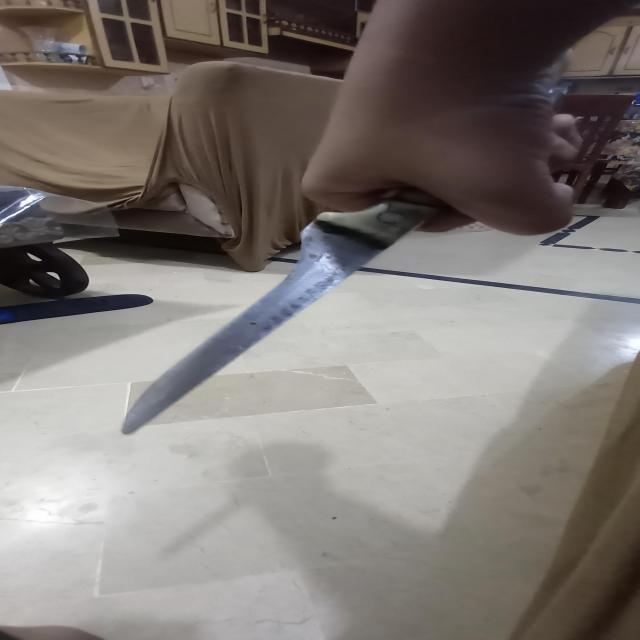faca: (120, 182, 457, 436)
